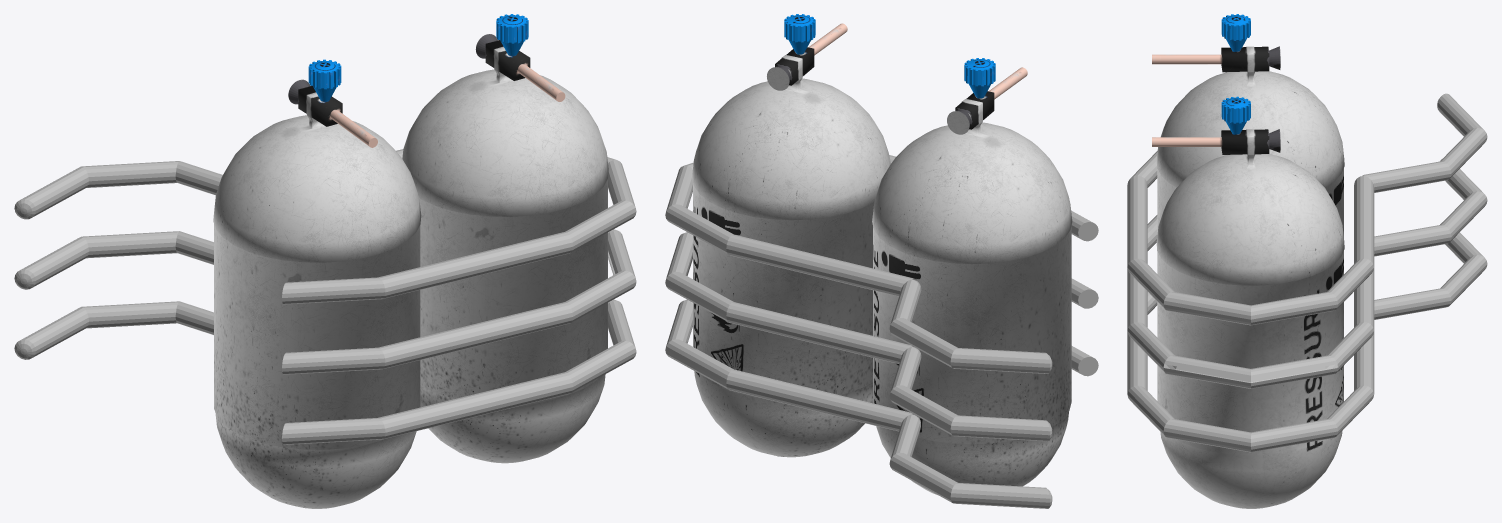
Rendered from O2Tank_Solo_Bracket.fbx.
3 views of the same model, side by side, from view 1: azimuth 30°, elevation 25°; view 2: azimuth 150°, elevation 25°; view 3: azimuth 270°, elevation 25° (orthographic). The views are drawn at different scales.
Parts seen in each view (by area): view 1: O2Tank_Empty, O2Tank, Bracket, Bracket_Gate; view 2: O2Tank_Empty, O2Tank, Bracket, Bracket_Gate; view 3: O2Tank, Bracket, O2Tank_Empty, Bracket_Gate.
Boxes of the visible parts, left/top/right/bottom form: O2Tank_Empty: left=213, top=59, right=421, bottom=508; O2Tank: left=402, top=14, right=608, bottom=463; Bracket: left=282, top=149, right=636, bottom=444; Bracket_Gate: left=14, top=161, right=222, bottom=359; O2Tank_Empty: left=872, top=58, right=1072, bottom=494; O2Tank: left=692, top=14, right=890, bottom=457; Bracket: left=665, top=155, right=1098, bottom=431; Bracket_Gate: left=889, top=279, right=1052, bottom=508; O2Tank: left=1152, top=96, right=1344, bottom=508; Bracket: left=1127, top=151, right=1374, bottom=452; O2Tank_Empty: left=1152, top=14, right=1344, bottom=236; Bracket_Gate: left=1362, top=93, right=1487, bottom=319.
Bounding box in the file's own units: 284 × 240 × 197.
